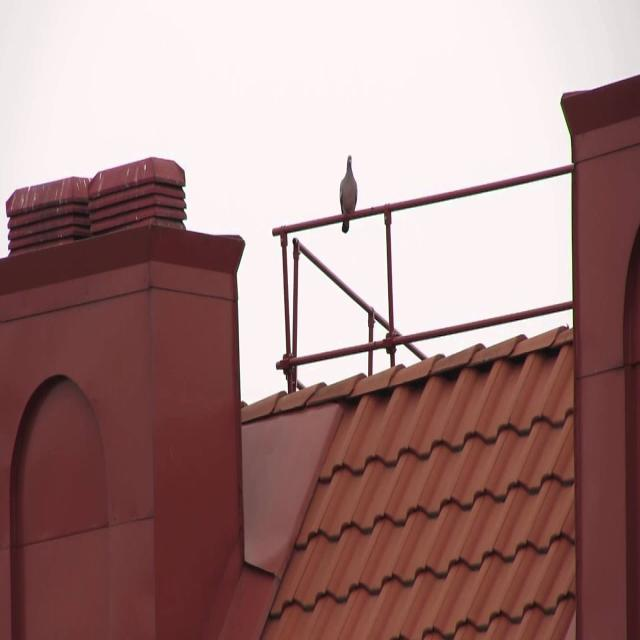bird: (338, 154, 359, 234)
